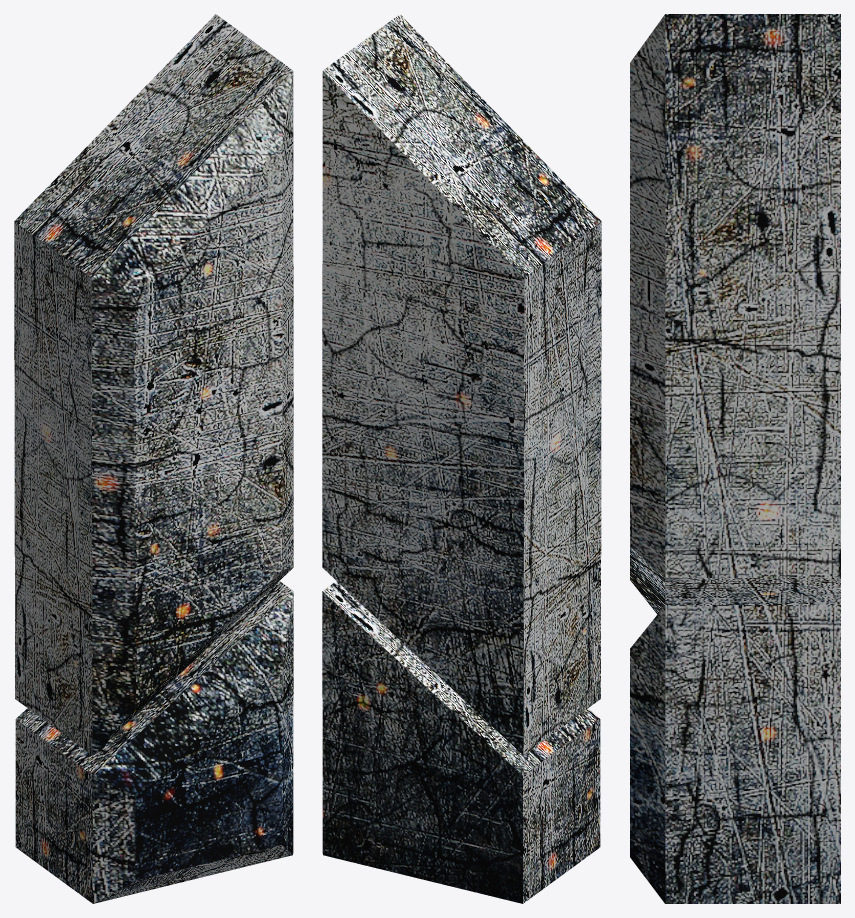
The picture shows the model from 3 angles, left to right: view 1: azimuth 30°, elevation 25°; view 2: azimuth 150°, elevation 25°; view 3: azimuth 270°, elevation 25°; orthographic projection. The views are drawn at different scales.
Visible parts, largest first — view 1: 1; view 2: 1; view 3: 1.
Part boxes in pixels (x1,y1,x2,y2): 1: [14, 14, 293, 903]; 1: [322, 14, 601, 903]; 1: [630, 14, 840, 903].
Size of the model in its own units: 15.06 by 55.89 by 12.
1 material, 1 textured.
